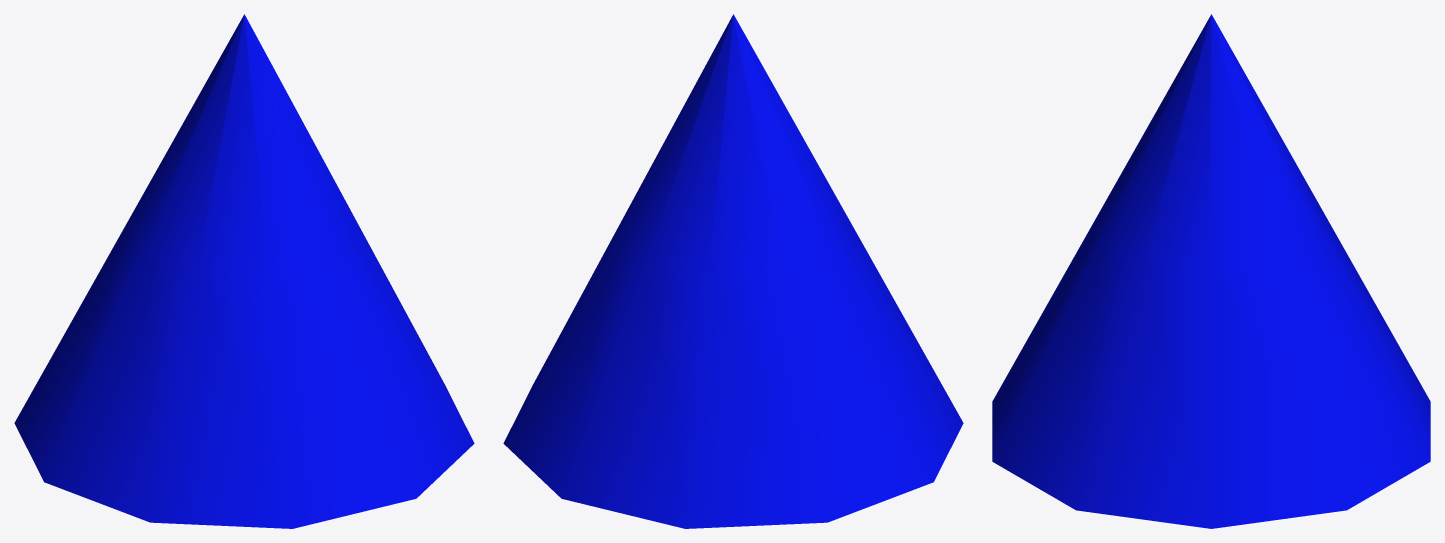
The picture shows the model from 3 angles, left to right: view 1: azimuth 30°, elevation 25°; view 2: azimuth 150°, elevation 25°; view 3: azimuth 270°, elevation 25°; orthographic projection.
Visible parts, largest first — view 1: Cone; view 2: Cone; view 3: Cone.
Part boxes in pixels (box(x1,y1,x2,y2)): Cone: box(14, 14, 474, 528); Cone: box(503, 14, 963, 528); Cone: box(992, 14, 1430, 528).
Bounding box in the file's own units: 0.1 × 0.1 × 0.0951.
